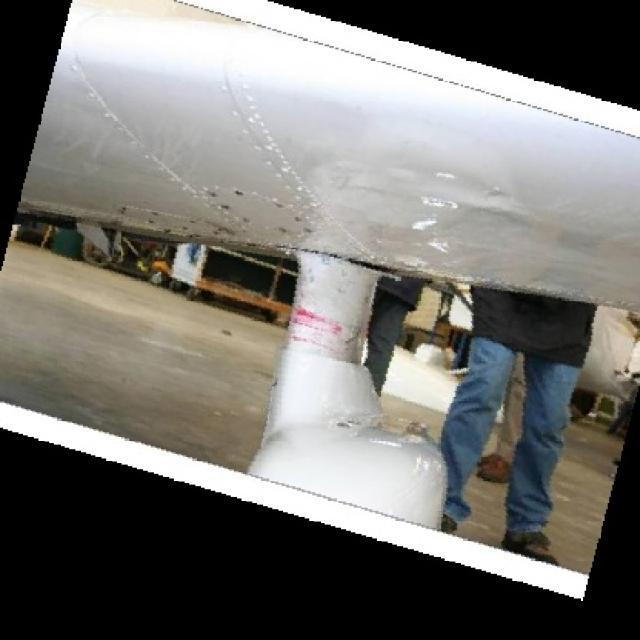dent: (410, 185, 464, 212)
